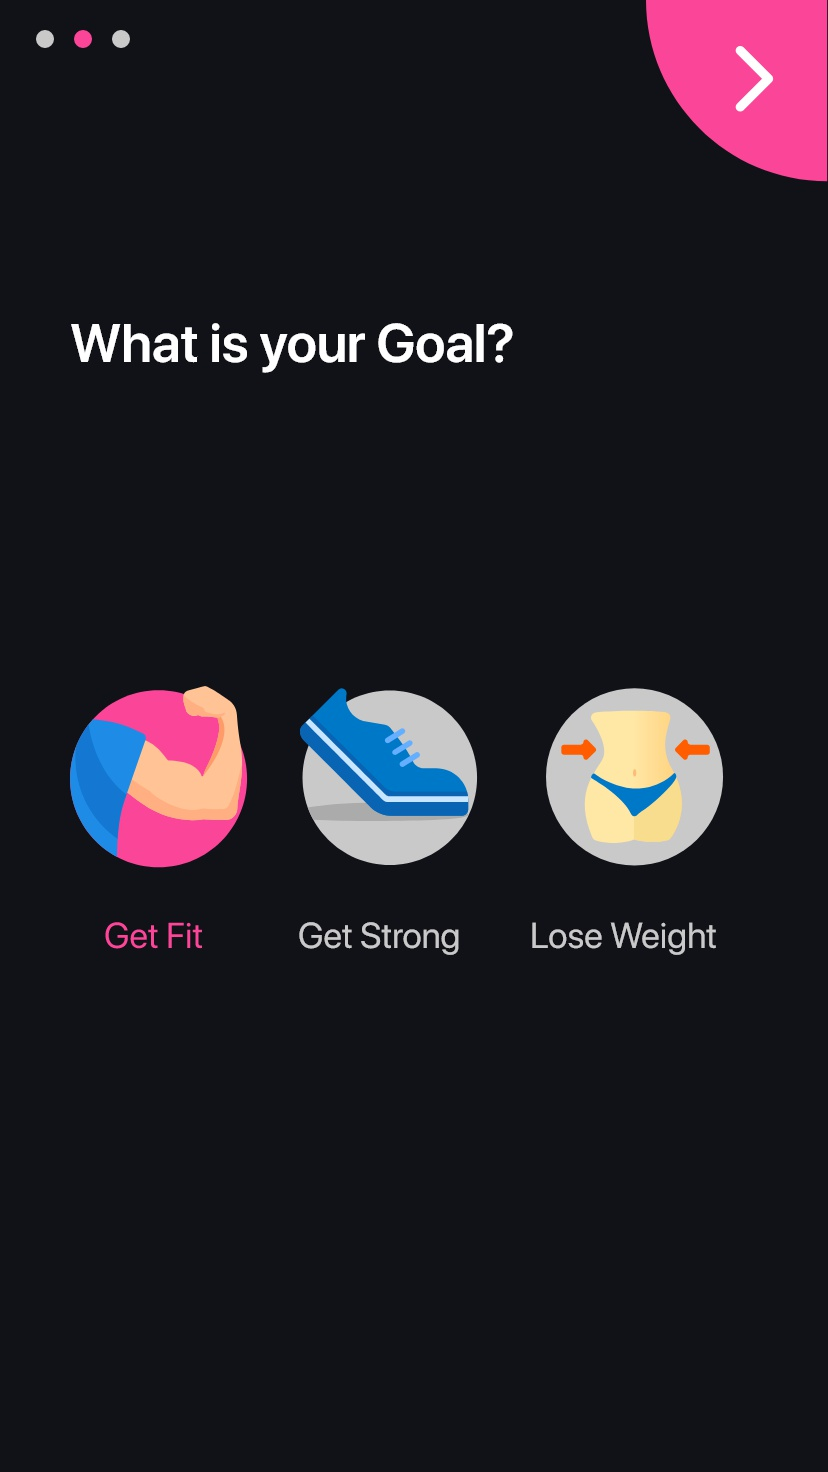Icon: (734, 47, 775, 114)
Image: (70, 686, 249, 869), (300, 688, 478, 867), (546, 688, 724, 866)
PageIndicator: (36, 29, 132, 51)
Text: (71, 321, 514, 375), (531, 921, 717, 957), (299, 921, 460, 957), (105, 921, 204, 950)
